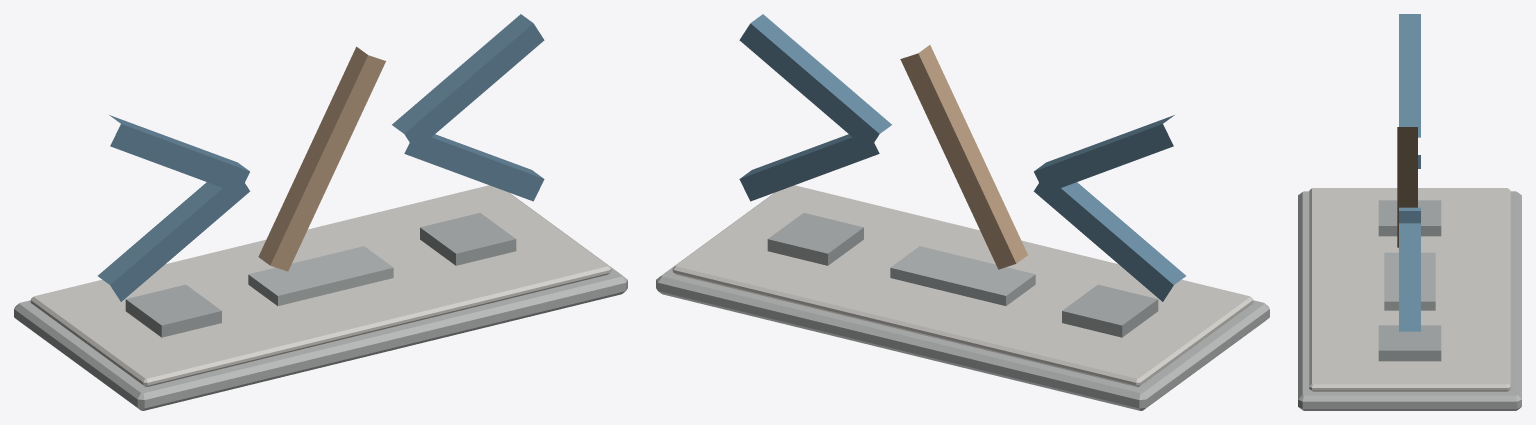
File: codeform.glb
3 views of the same model, side by side, from view 1: azimuth 30°, elevation 25°; view 2: azimuth 150°, elevation 25°; view 3: azimuth 270°, elevation 25° (orthographic). The views are drawn at different scales.
Parts seen in each view (by area): view 1: codeform; view 2: codeform; view 3: codeform.
Part boxes in pixels (left/top/right/bottom): codeform: left=14, top=14, right=627, bottom=410; codeform: left=656, top=14, right=1269, bottom=410; codeform: left=1298, top=14, right=1521, bottom=410.
Size of the model in its own units: 11 by 5.31 by 5.
